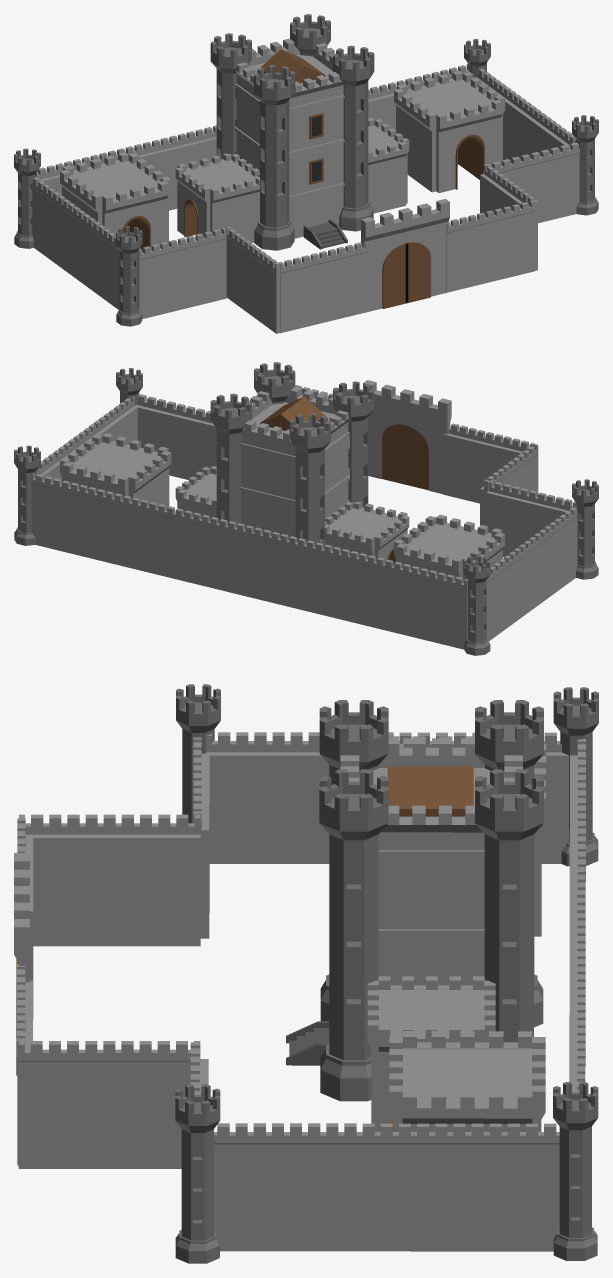
The model's file is castleSmallVer.fbx.
The picture shows the model from 3 angles, top to bottom: view 1: azimuth 30°, elevation 25°; view 2: azimuth 150°, elevation 25°; view 3: azimuth 270°, elevation 25°; orthographic projection. The views are drawn at different scales.
Visible parts, largest first — view 1: Cube.280; view 2: Cube.280; view 3: Cube.280.
Boxes of the visible parts, x1=… form: Cube.280: x1=14, y1=14, x2=598, y2=333; Cube.280: x1=14, y1=362, x2=598, y2=655; Cube.280: x1=14, y1=684, x2=598, y2=1263.
Bounding box in the file's own units: 10183 × 3474 × 6005.
